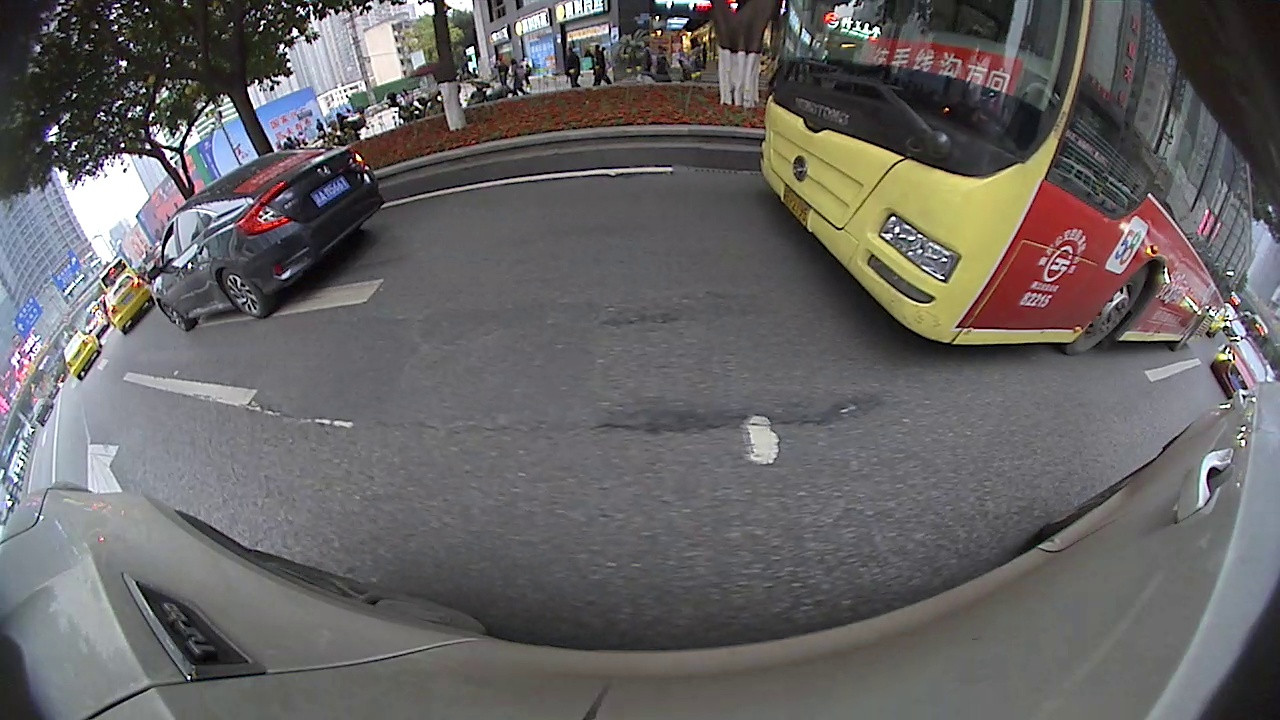bus: (761, 4, 1257, 362)
car: (145, 139, 389, 337), (1213, 330, 1277, 399), (100, 265, 159, 337), (56, 328, 106, 385)
front: (1062, 258, 1153, 359), (150, 301, 194, 337)
rear: (217, 271, 273, 322), (1171, 307, 1207, 356)
